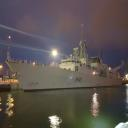Fragata: (5, 24, 124, 94)
